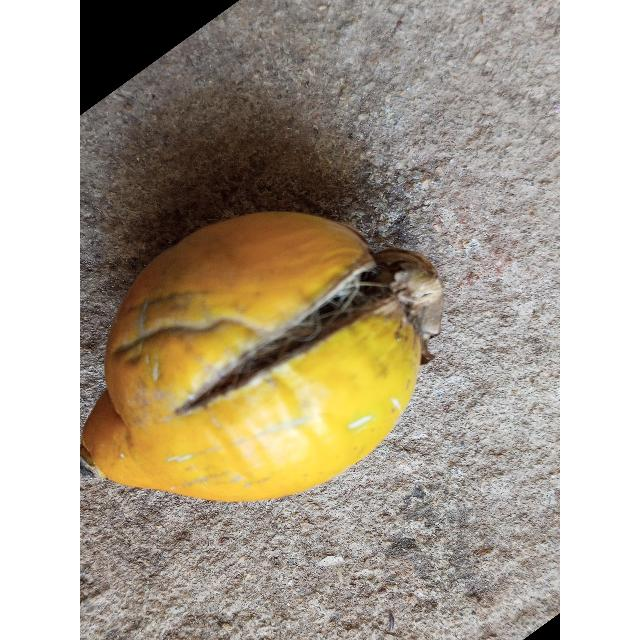damaged: (80, 212, 443, 501)
